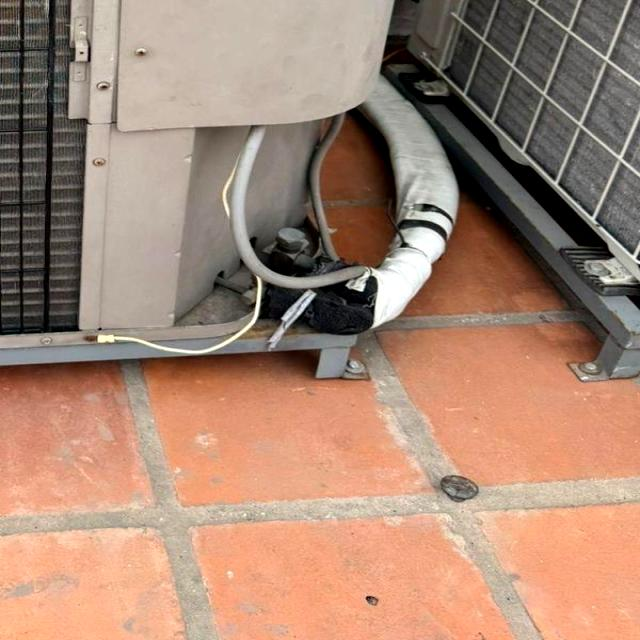SPLIT-SYSTEM: (0, 0, 476, 412)
